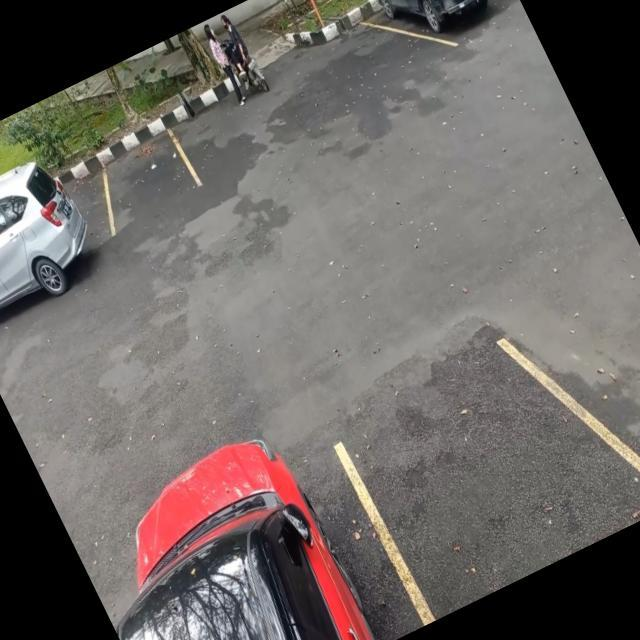empty: (334, 329, 640, 622), (77, 111, 202, 232)
occupied: (357, 0, 515, 68)
